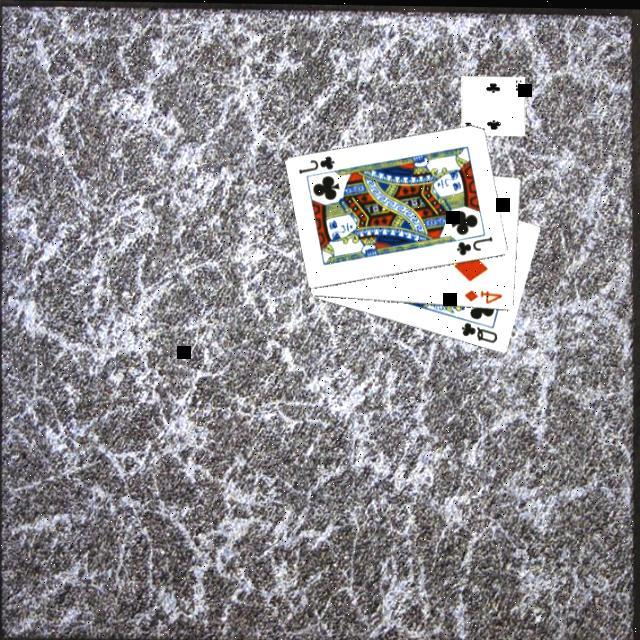4D: (464, 285, 507, 305)
JC: (456, 231, 498, 256), (298, 151, 340, 175)
QC: (461, 317, 503, 343)
